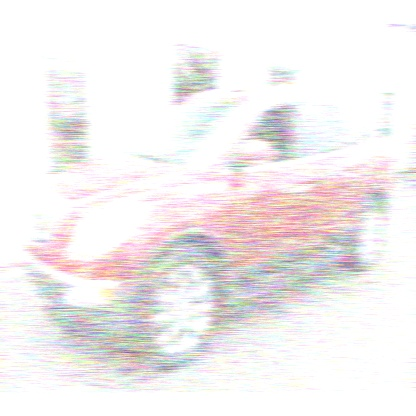Vehicle: (23, 85, 390, 366)
